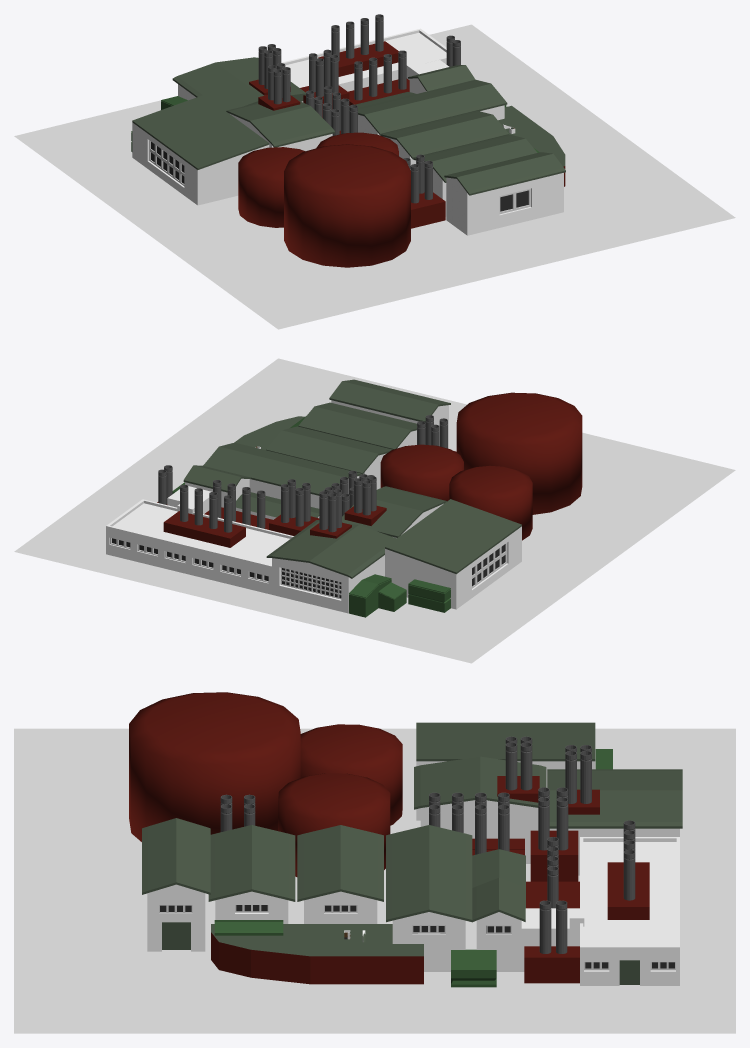
The model's file is refinery.glb.
3 views of the same model, one above another, from view 1: azimuth 30°, elevation 25°; view 2: azimuth 150°, elevation 25°; view 3: azimuth 270°, elevation 25° (orthographic). The views are drawn at different scales.
Parts seen in each view (by area): view 1: Plane, Cylinder.009, refinery.009, refinery.002, refinery.003, Cylinder.010, refinery.007, refinery, refinery.010, refinery.001, Cube.032, Cube.034 (+13 smaller); view 2: Plane, Cylinder.009, refinery.009, Cube.032, refinery.007, refinery.003, Cylinder.010, Cylinder.008, refinery, refinery.001, refinery.002, refinery.010 (+18 smaller); view 3: Plane, Cylinder.009, Cube.032, Cube.034, refinery.003, refinery.002, refinery, refinery.001, refinery.007, refinery.009, refinery.010, Cylinder.008 (+20 smaller).
Part boxes in pixels (bbox=[...]): Plane: bbox=[14, 24, 735, 329]; Cylinder.009: bbox=[284, 144, 410, 267]; refinery.009: bbox=[132, 95, 269, 205]; refinery.002: bbox=[444, 152, 565, 235]; refinery.003: bbox=[358, 79, 507, 135]; Cylinder.010: bbox=[238, 147, 304, 227]; refinery.007: bbox=[172, 57, 305, 110]; refinery: bbox=[381, 111, 508, 169]; refinery.010: bbox=[226, 100, 335, 151]; refinery.001: bbox=[413, 134, 537, 216]; Cube.032: bbox=[281, 28, 446, 91]; Cube.034: bbox=[498, 105, 565, 186]; Plane: bbox=[14, 358, 735, 663]; Cylinder.009: bbox=[456, 392, 582, 514]; refinery.009: bbox=[385, 499, 521, 609]; Cube.032: bbox=[106, 499, 293, 594]; refinery.007: bbox=[266, 520, 396, 613]; refinery.003: bbox=[203, 442, 361, 508]; Cylinder.010: bbox=[449, 465, 532, 540]; Cylinder.008: bbox=[380, 444, 463, 501]; refinery: bbox=[266, 426, 392, 489]; refinery.001: bbox=[298, 402, 417, 449]; refinery.002: bbox=[329, 379, 450, 448]; refinery.010: bbox=[342, 486, 446, 538]; Plane: bbox=[14, 728, 735, 1033]; Cylinder.009: bbox=[129, 692, 300, 841]; Cube.032: bbox=[580, 837, 679, 985]; Cube.034: bbox=[211, 924, 423, 984]; refinery.003: bbox=[386, 825, 472, 971]; refinery.002: bbox=[142, 818, 210, 951]; refinery: bbox=[297, 825, 383, 923]; refinery.001: bbox=[208, 825, 295, 923]; refinery.007: bbox=[547, 769, 682, 875]; refinery.009: bbox=[416, 722, 595, 820]; refinery.010: bbox=[414, 756, 546, 863]; Cylinder.008: bbox=[278, 773, 390, 876].
Bounding box in the file's own units: 6 × 1.05 × 6.
Materials: 1 (1 with a texture image).
